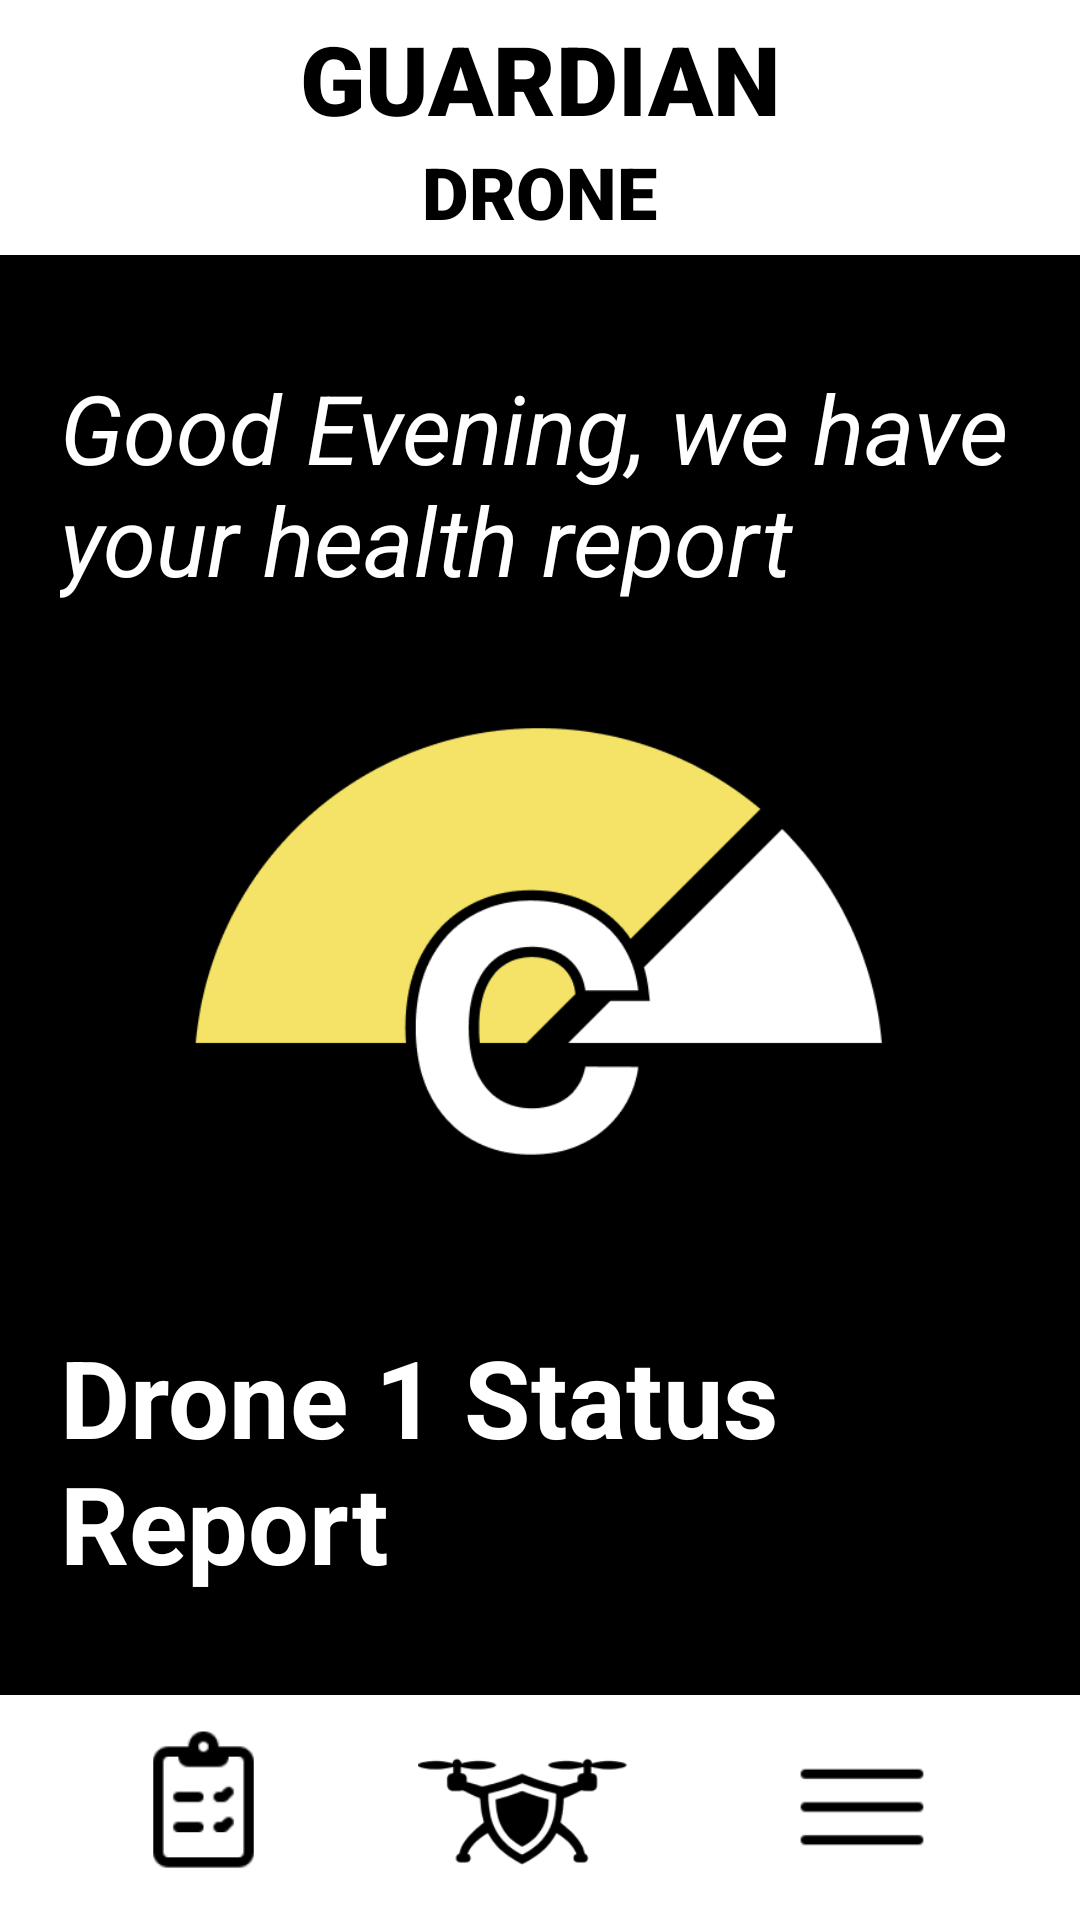

Screen size 1080*1920. Icon name, then its box in pixels as (x1, y1, x2, y2):
logs: (153, 1731, 254, 1868)
menu: (800, 1768, 924, 1846)
